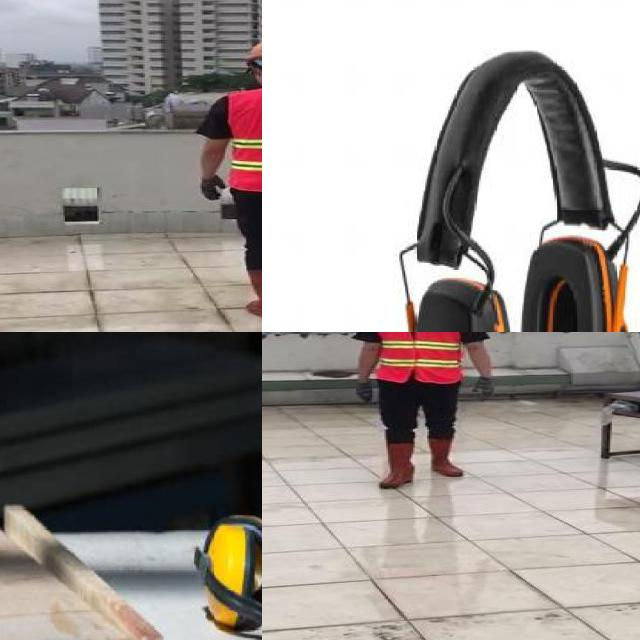Ear-protection: (418, 59, 640, 332), (183, 494, 262, 630)
boots: (381, 443, 415, 489), (430, 439, 464, 477), (244, 268, 262, 319)
hand_glove: (198, 176, 228, 201), (471, 376, 493, 399), (356, 380, 376, 403)
head_helmet: (243, 38, 262, 61)
person: (353, 332, 500, 488), (194, 37, 262, 323)
vest: (374, 332, 461, 382), (226, 89, 262, 193)
